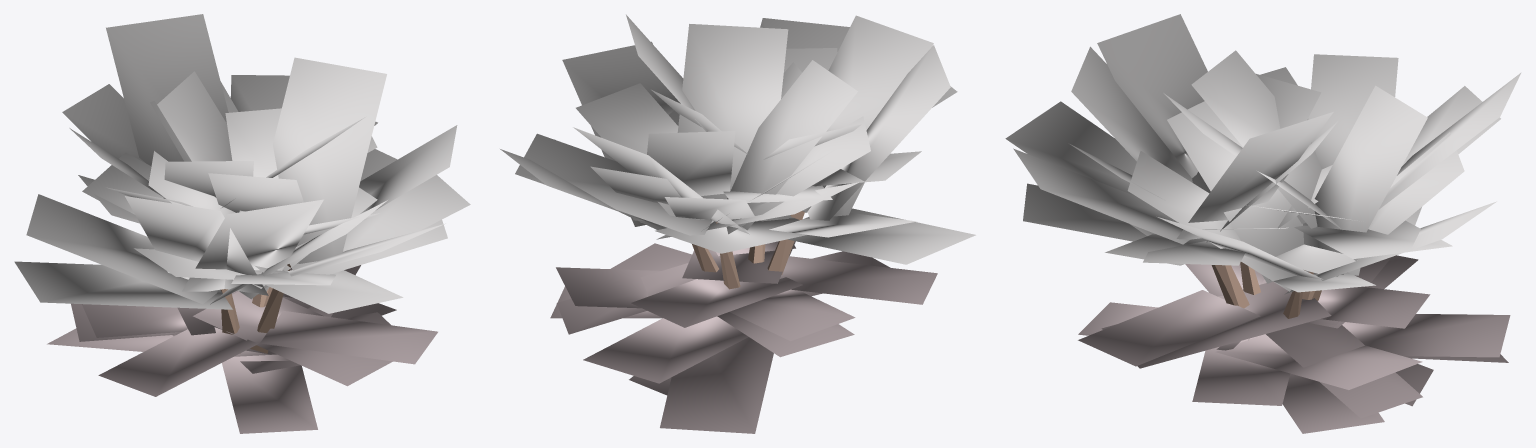
File: plant_croton_3_lod1.glb
The picture shows the model from 3 angles, left to right: view 1: azimuth 30°, elevation 25°; view 2: azimuth 150°, elevation 25°; view 3: azimuth 270°, elevation 25°; orthographic projection. The views are drawn at different scales.
Visible parts, largest first — view 1: plant_croton_3; view 2: plant_croton_3; view 3: plant_croton_3.
Part boxes in pixels (bbox=[...]): plant_croton_3: bbox=[14, 14, 470, 433]; plant_croton_3: bbox=[500, 14, 975, 433]; plant_croton_3: bbox=[1005, 14, 1521, 433].
Bounding box in the file's own units: 1.15 × 0.7746 × 1.17.
